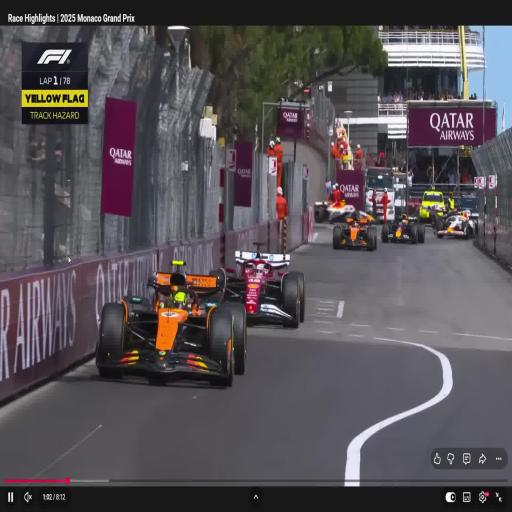f1_car: (96, 271, 246, 386), (224, 243, 305, 327), (333, 218, 377, 250), (381, 213, 425, 243), (434, 211, 477, 238), (211, 268, 224, 278), (173, 261, 185, 266)
